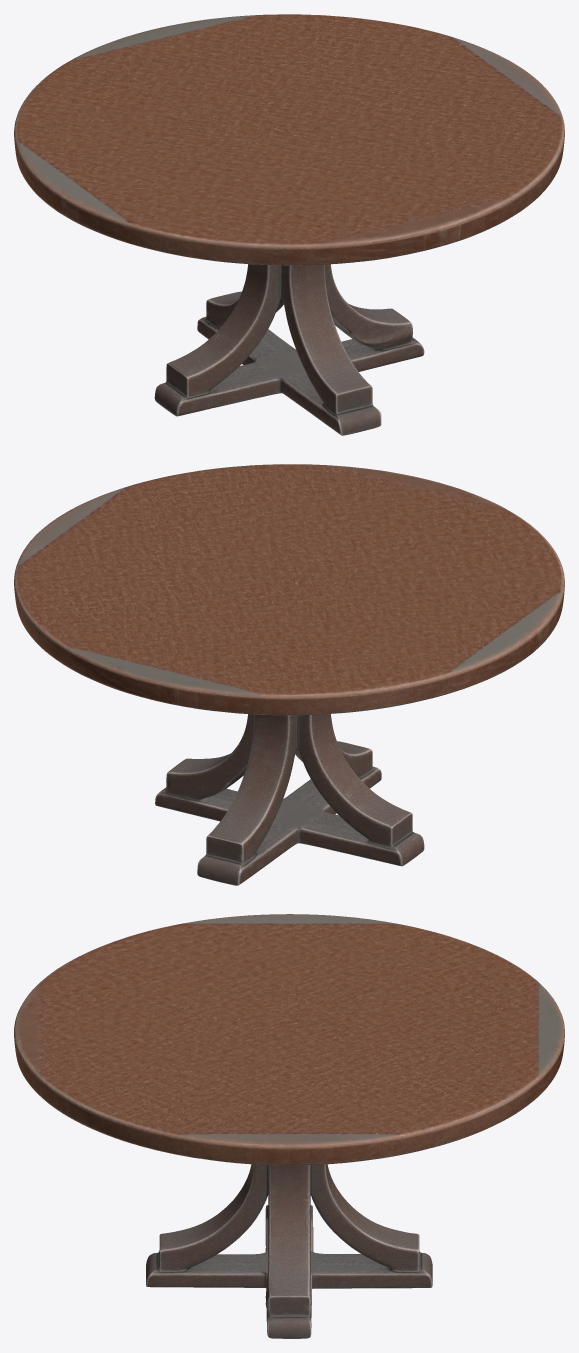
Rendered from Meshy_AI_Rustic_Round_Wooden_T_0915165031_texture.obj.
3 renders of one model, top to bottom at view 1: azimuth 30°, elevation 25°; view 2: azimuth 150°, elevation 25°; view 3: azimuth 270°, elevation 25°, orthographic.
Parts seen in each view (by area): view 1: Meshy_AI_Rustic_Round_Wooden_T_0915165031_texture; view 2: Meshy_AI_Rustic_Round_Wooden_T_0915165031_texture; view 3: Meshy_AI_Rustic_Round_Wooden_T_0915165031_texture.
Boxes of the visible parts, x1,y1,x2,y2 form: Meshy_AI_Rustic_Round_Wooden_T_0915165031_texture: (14, 14, 564, 435); Meshy_AI_Rustic_Round_Wooden_T_0915165031_texture: (14, 464, 564, 885); Meshy_AI_Rustic_Round_Wooden_T_0915165031_texture: (14, 914, 564, 1338).
Bounding box in the file's own units: 1.9 × 0.9552 × 1.9.
1 material, 1 textured.
